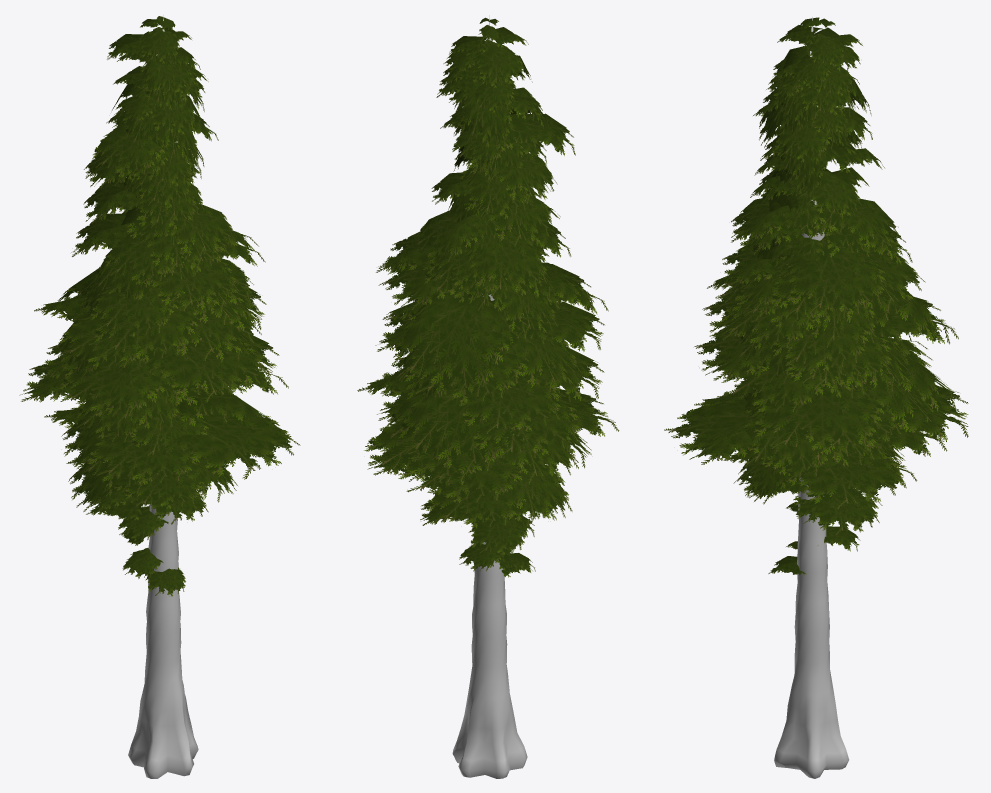
File: TreeMedium002.fbx
3 views of the same model, side by side, from view 1: azimuth 30°, elevation 25°; view 2: azimuth 150°, elevation 25°; view 3: azimuth 270°, elevation 25° (orthographic).
Visible parts, largest first — view 1: TreeMedium002_LOD0; view 2: TreeMedium002_LOD0; view 3: TreeMedium002_LOD0.
Part boxes in pixels (<box>): TreeMedium002_LOD0: <box>19,15,300,778</box>; TreeMedium002_LOD0: <box>357,15,619,778</box>; TreeMedium002_LOD0: <box>664,17,968,778</box>.
Bounding box in the file's own units: 1059 × 3089 × 1203.
